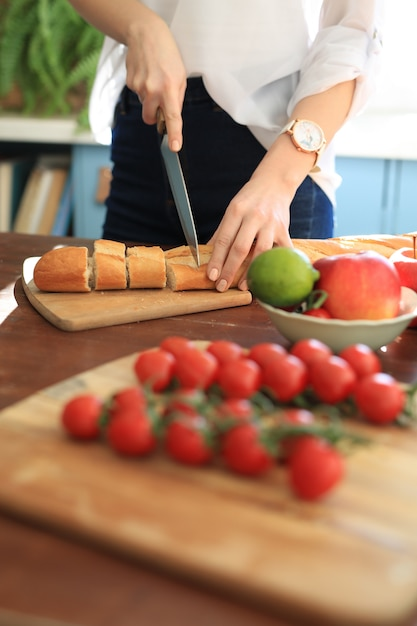knife: (162, 134, 204, 265)
